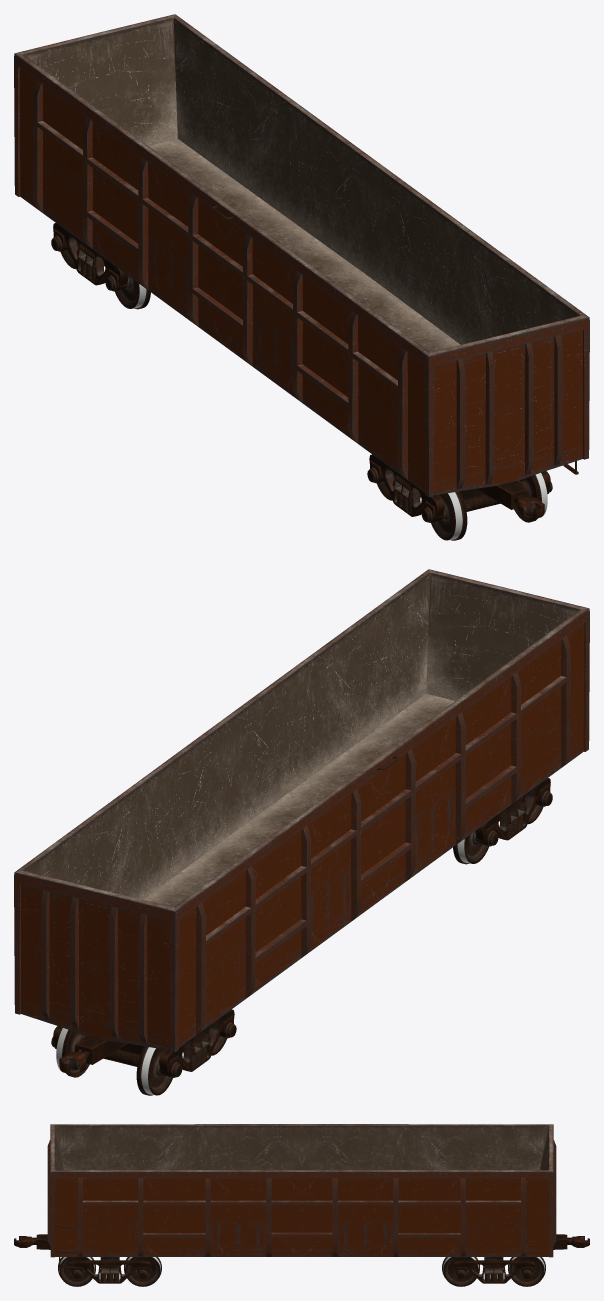
Rendered from SM_car4.gltf.
3 views of the same model, one above another, from view 1: azimuth 30°, elevation 25°; view 2: azimuth 150°, elevation 25°; view 3: azimuth 270°, elevation 25° (orthographic). The views are drawn at different scales.
Parts seen in each view (by area): view 1: SM_car4; view 2: SM_car4; view 3: SM_car4.
Part boxes in pixels (x1,y1,x2,y2): SM_car4: [14, 14, 589, 540]; SM_car4: [14, 569, 589, 1095]; SM_car4: [14, 1124, 589, 1286].
Size of the model in its own units: 3.47 by 4.03 by 16.63.
2 materials, 2 textured.
